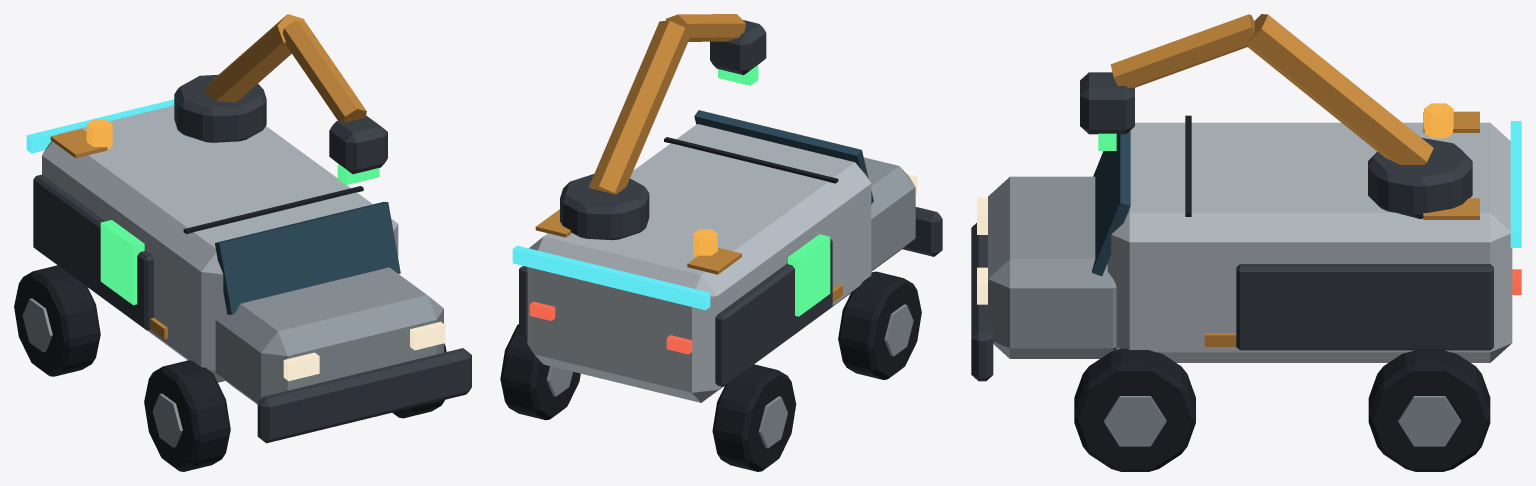
File: exo-engineer.glb
3 renders of one model, left to right at view 1: azimuth 30°, elevation 25°; view 2: azimuth 150°, elevation 25°; view 3: azimuth 270°, elevation 25°, orthographic. The views are drawn at different scales.
Parts seen in each view (by area): view 1: body; view 2: body; view 3: body.
Part boxes in pixels (box(x1,y1,x2,y2)): body: box(14, 14, 471, 471); body: box(500, 14, 942, 471); body: box(971, 14, 1521, 471).
Bounding box in the file's own units: 1.86 × 2.5 × 2.99.
